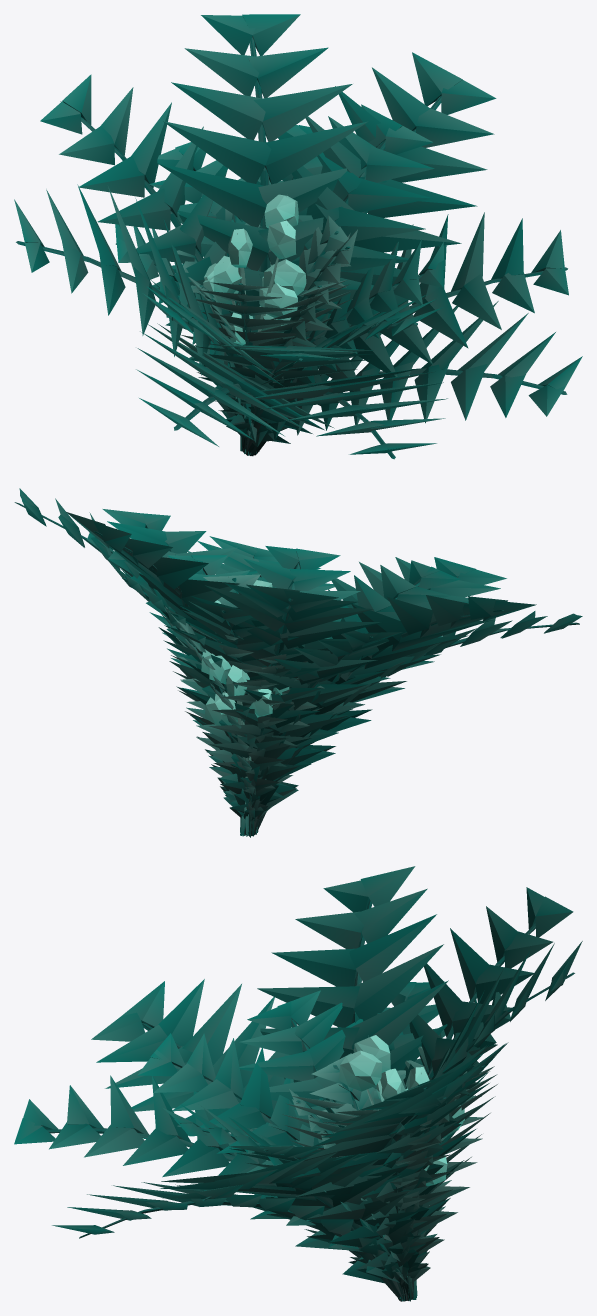
The model's file is vegetasi_fern_deep_765145.glb.
3 views of the same model, one above another, from view 1: azimuth 30°, elevation 25°; view 2: azimuth 150°, elevation 25°; view 3: azimuth 270°, elevation 25° (orthographic). The views are drawn at different scales.
Visible parts, largest first — view 1: Pakis_Tropis_Sungai; view 2: Pakis_Tropis_Sungai; view 3: Pakis_Tropis_Sungai.
Boxes of the visible parts, x1,y1,x2,y2 form: Pakis_Tropis_Sungai: [14, 14, 582, 459]; Pakis_Tropis_Sungai: [14, 488, 582, 837]; Pakis_Tropis_Sungai: [14, 866, 582, 1301].
Size of the model in its own units: 2.82 by 1.97 by 2.69.
